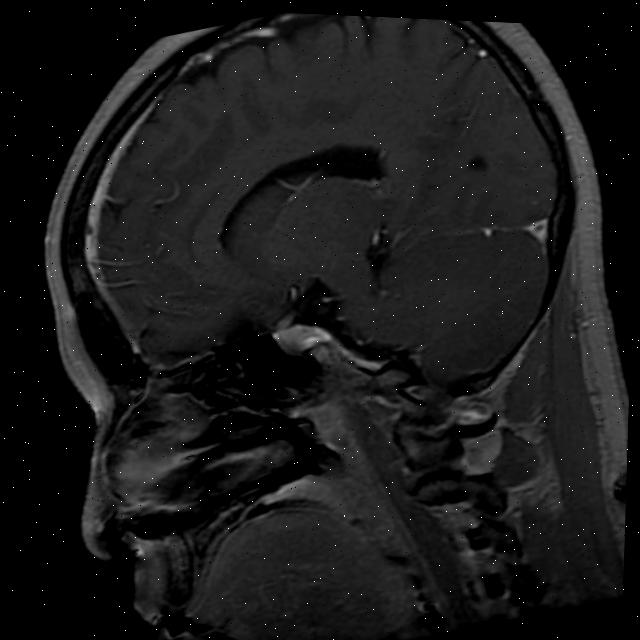Pituitary: (266, 314, 335, 363)
